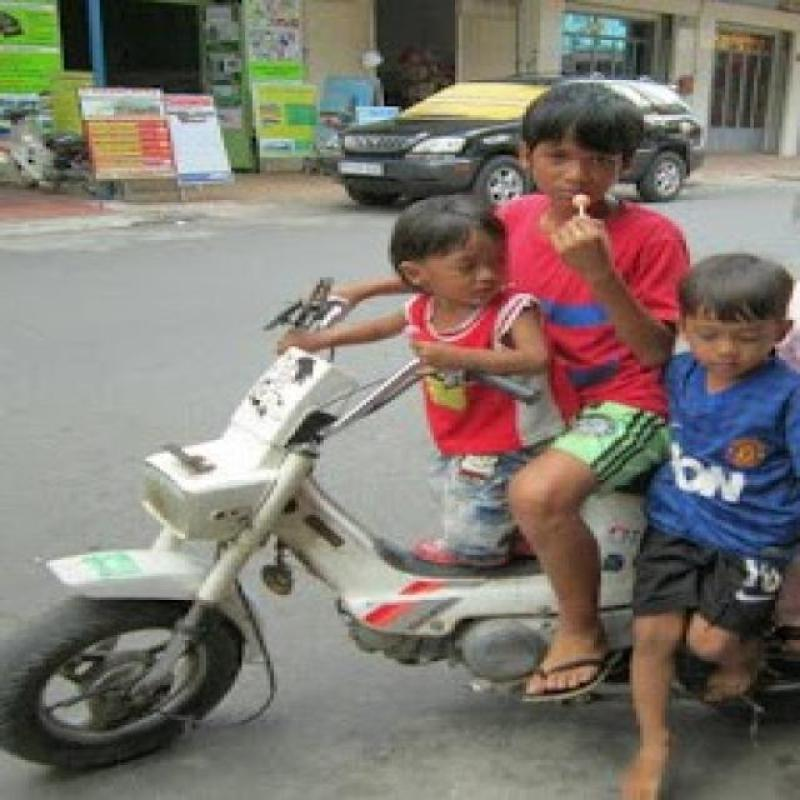nohelmet: (496, 82, 678, 222), (375, 190, 536, 310)
